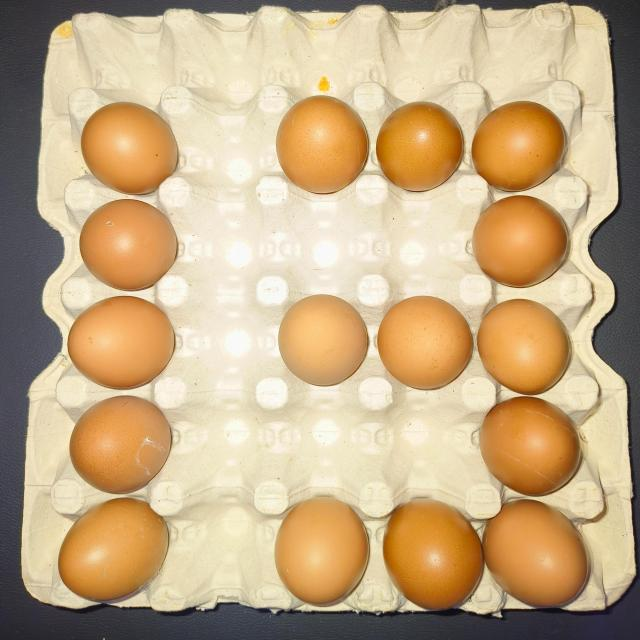Eggs: (482, 494, 598, 604), (390, 491, 485, 612), (53, 503, 175, 595), (272, 491, 368, 604), (74, 88, 174, 192), (270, 285, 369, 390), (66, 288, 174, 382), (481, 402, 585, 496), (276, 89, 369, 194), (380, 292, 478, 389), (482, 294, 572, 398), (73, 404, 174, 495), (472, 91, 570, 182), (474, 200, 568, 292), (382, 88, 462, 193), (81, 199, 172, 290)
